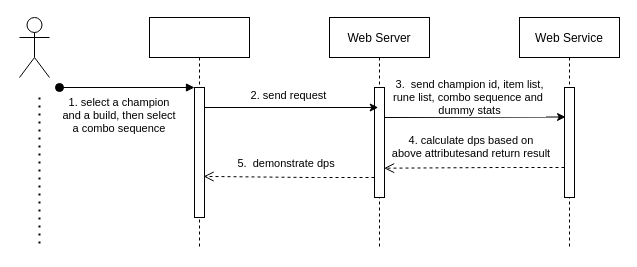
The diagram is 637 pixels wide and 267 high, and some of its shapes have lost their labels. Here are the shapes that lost their labels. From the top down, the box of each, then its label:
(18, 16, 50, 78): Player
(148, 16, 250, 248): Web Client
